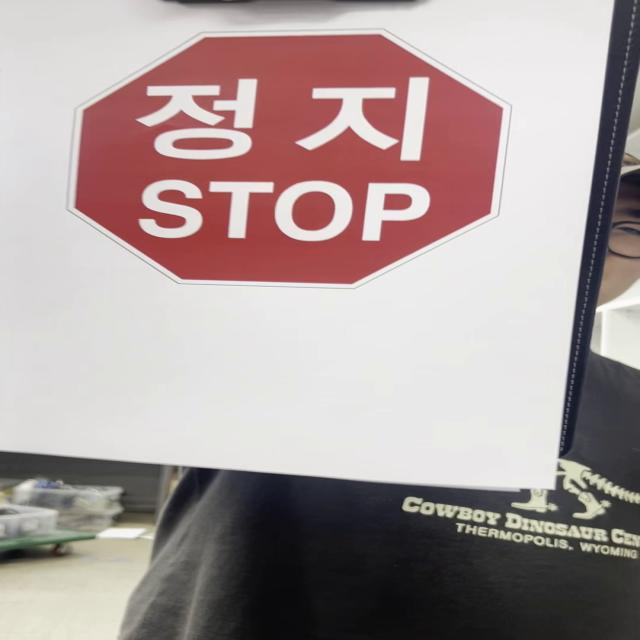stop: (65, 32, 514, 288)
